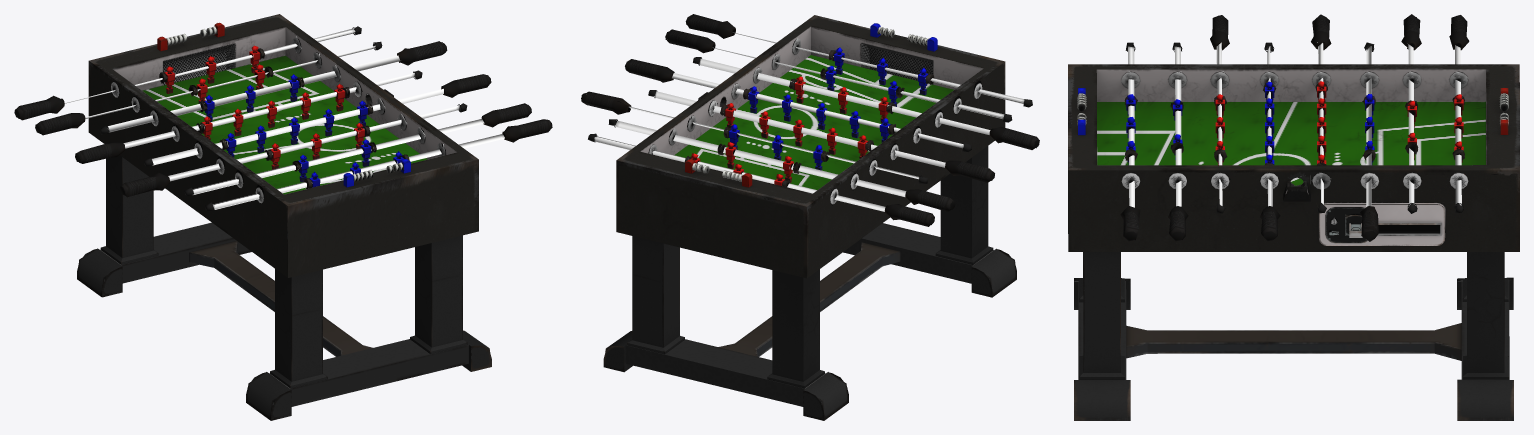
File: foosball table.glb
3 views of the same model, side by side, from view 1: azimuth 30°, elevation 25°; view 2: azimuth 150°, elevation 25°; view 3: azimuth 270°, elevation 25° (orthographic). The views are drawn at different scales.
Visible parts, largest first — view 1: Sketchfab Model.029; view 2: Sketchfab Model.029; view 3: Sketchfab Model.029.
Boxes of the visible parts, <box> form: Sketchfab Model.029: <box>14,14,552,420</box>; Sketchfab Model.029: <box>581,14,1039,420</box>; Sketchfab Model.029: <box>1068,14,1519,420</box>.
Size of the model in its own units: 1.76 by 0.9697 by 1.56.
Materials: 1 (1 with a texture image).
